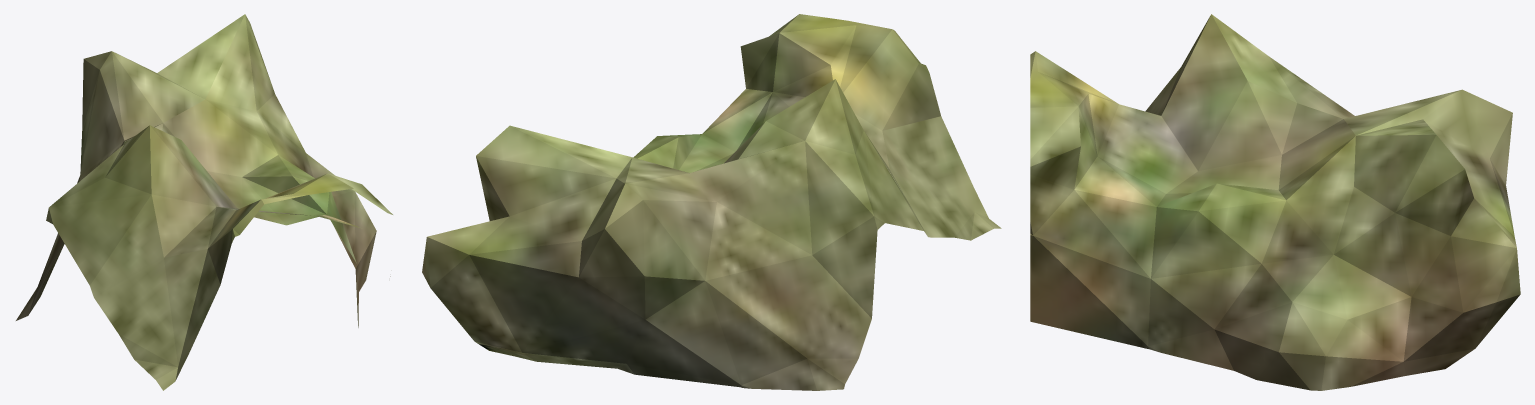
3 renders of one model, left to right at view 1: azimuth 30°, elevation 25°; view 2: azimuth 150°, elevation 25°; view 3: azimuth 270°, elevation 25°, orthographic. The views are drawn at different scales.
Bounding box in the file's own units: 0.5985 × 0.3909 × 0.7153.
1 material, 1 textured.
